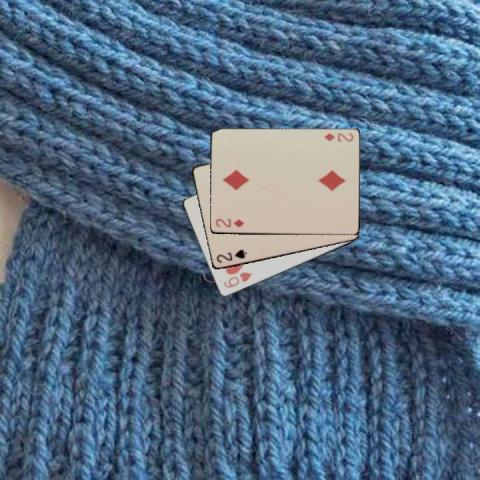2d: (321, 130, 355, 143), (212, 216, 244, 229)
2s: (213, 246, 248, 265)
6h: (221, 270, 253, 290)
